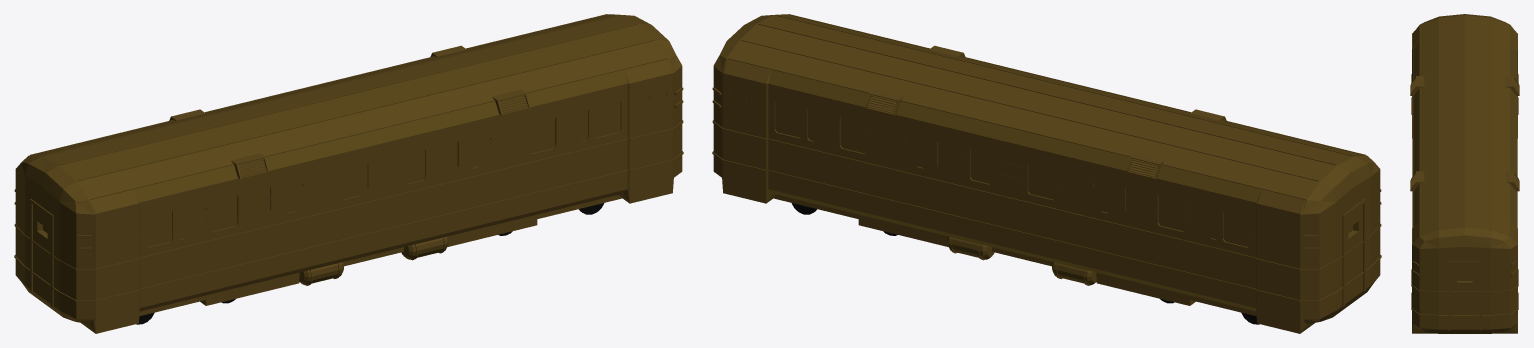
The model's file is cargotrain_wagon.glb.
3 renders of one model, left to right at view 1: azimuth 30°, elevation 25°; view 2: azimuth 150°, elevation 25°; view 3: azimuth 270°, elevation 25°, orthographic. The views are drawn at different scales.
Parts seen in each view (by area): view 1: CargoTrain_Wagon_Cylinder.002; view 2: CargoTrain_Wagon_Cylinder.002; view 3: CargoTrain_Wagon_Cylinder.002.
Part boxes in pixels (x1=…): CargoTrain_Wagon_Cylinder.002: x1=14, y1=14, x2=683, y2=333; CargoTrain_Wagon_Cylinder.002: x1=712, y1=14, x2=1381, y2=333; CargoTrain_Wagon_Cylinder.002: x1=1410, y1=14, x2=1519, y2=333.
Size of the model in its own units: 10.25 by 2.62 by 2.1.
